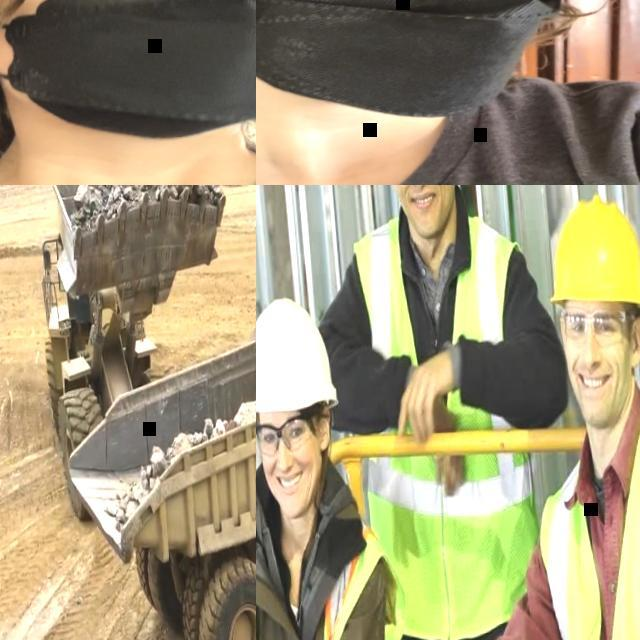helmet: (544, 190, 640, 316), (256, 288, 337, 418)
vest: (342, 202, 546, 640), (536, 404, 640, 640), (256, 516, 415, 640)
